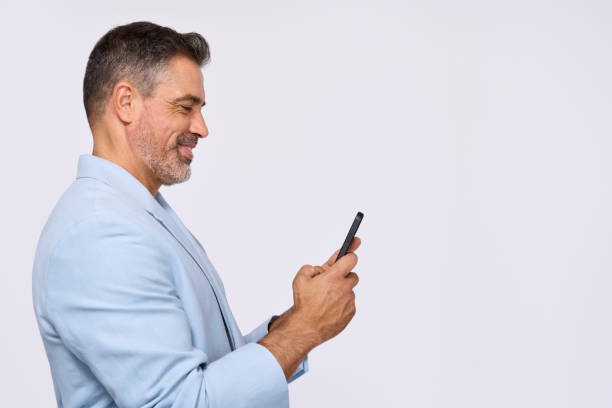Male: (32, 21, 368, 408)
